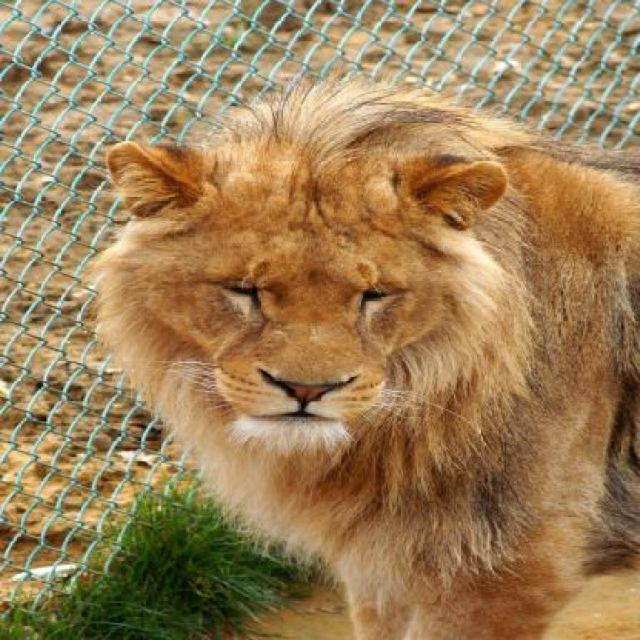Lion: (32, 77, 630, 638)
